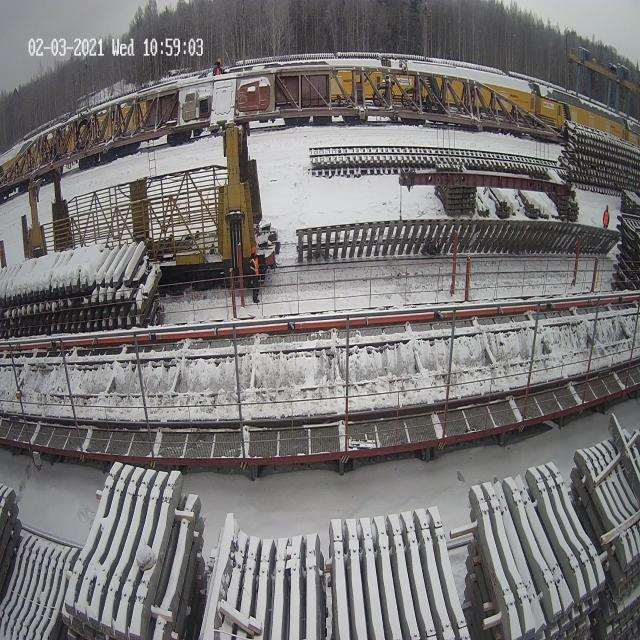Helmet: (251, 246, 257, 255)
Person: (249, 246, 260, 303), (603, 204, 609, 229)
